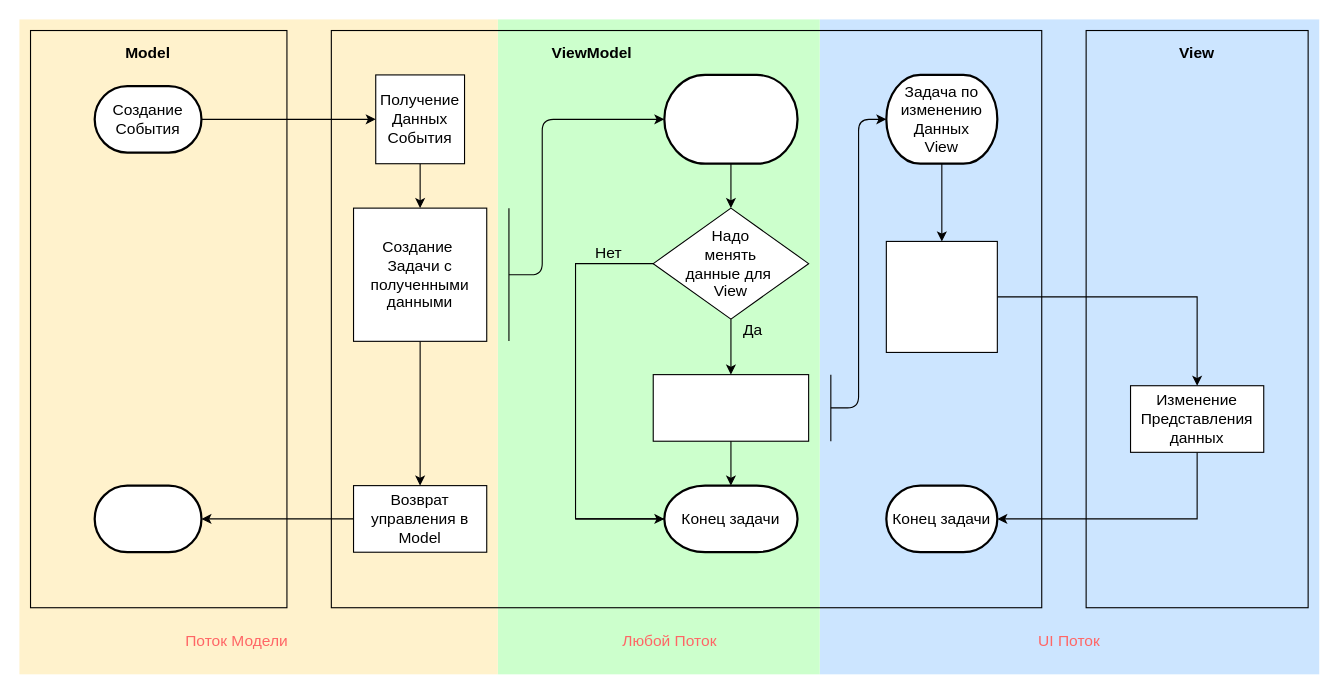
This 1338x693 diagram has some shape labels left out. The shapes that lost their labels are listed below. From the top down, each one's centre as x and y in pixels, then its label:
At (730,118): "Задача по обработке Данных События".
At (941,296): "Изменение данных для View".
At (730,407): "Создание задачи в UI потоке".
At (147,518): "Выход из События".
